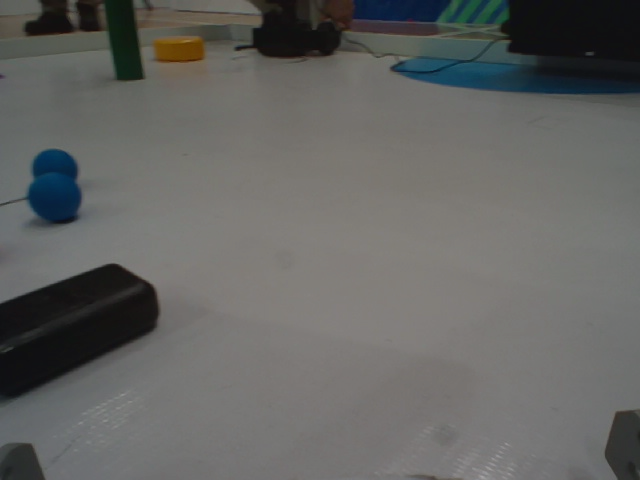blue: (25, 174, 90, 231), (31, 146, 82, 179)
yellow: (148, 33, 214, 59)
zhuzi: (94, 1, 149, 87)
